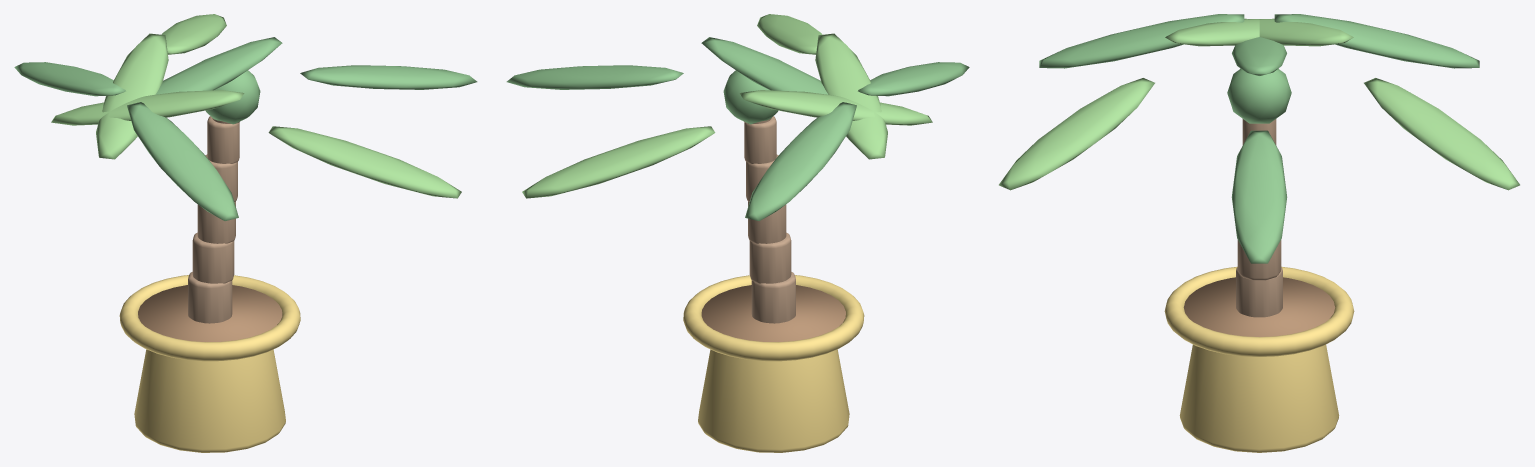
The model's file is pc_palm.glb.
3 views of the same model, side by side, from view 1: azimuth 30°, elevation 25°; view 2: azimuth 150°, elevation 25°; view 3: azimuth 270°, elevation 25° (orthographic). The views are drawn at different scales.
Parts seen in each view (by area): view 1: pc_palm; view 2: pc_palm; view 3: pc_palm.
Boxes of the visible parts, bbox=[...] form: pc_palm: bbox=[14, 14, 477, 452]; pc_palm: bbox=[506, 14, 969, 452]; pc_palm: bbox=[999, 14, 1519, 452].
Size of the model in its own units: 2.38 by 2.1 by 2.59.
